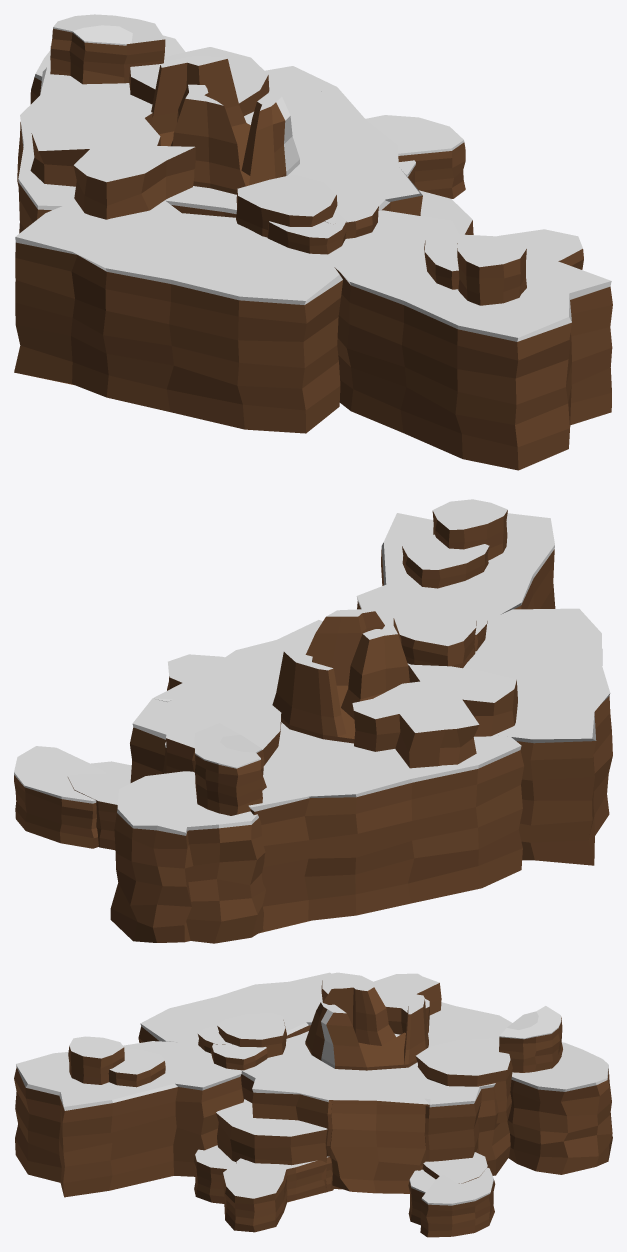
File: Mountain.fbx
3 renders of one model, top to bottom at view 1: azimuth 30°, elevation 25°; view 2: azimuth 150°, elevation 25°; view 3: azimuth 270°, elevation 25°, orthographic. The views are drawn at different scales.
Visible parts, largest first — view 1: Plane.023; view 2: Plane.023; view 3: Plane.023.
Boxes of the visible parts, x1=… form: Plane.023: x1=14, y1=14, x2=612, y2=470; Plane.023: x1=14, y1=499, x2=612, y2=943; Plane.023: x1=14, y1=972, x2=612, y2=1237.
Bounding box in the file's own units: 900 × 364 × 1298.
